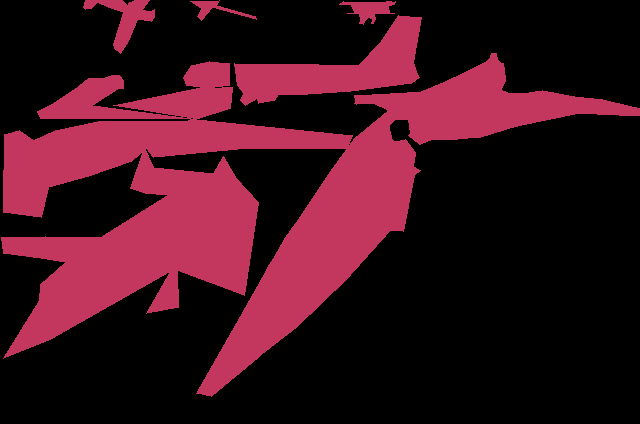Airplane: (196, 54, 640, 397), (200, 53, 640, 393), (1, 147, 258, 358), (3, 87, 352, 218), (183, 15, 422, 106), (37, 75, 190, 118), (83, 0, 155, 53), (339, 1, 396, 25), (190, 0, 257, 20)
